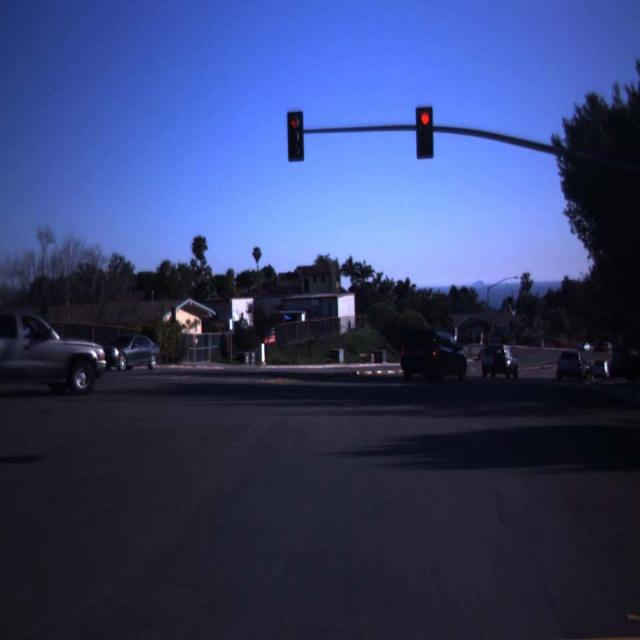kirmizi: (417, 107, 433, 160)
